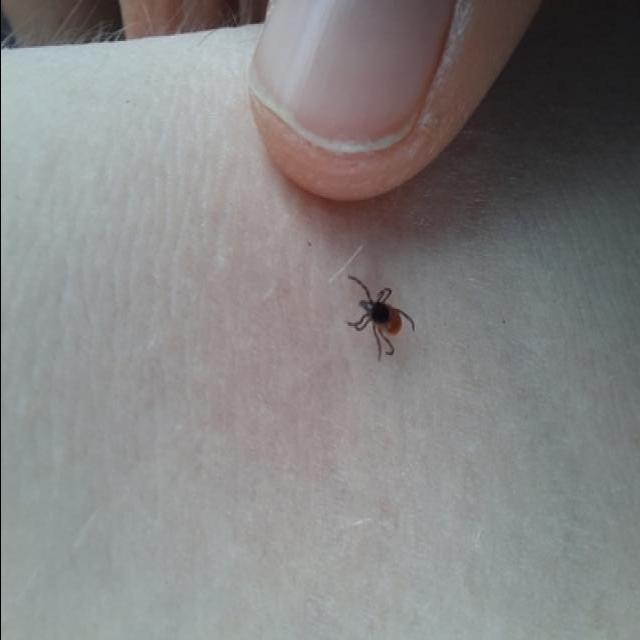Ixodes Ricinus-F: (346, 275, 413, 362)
